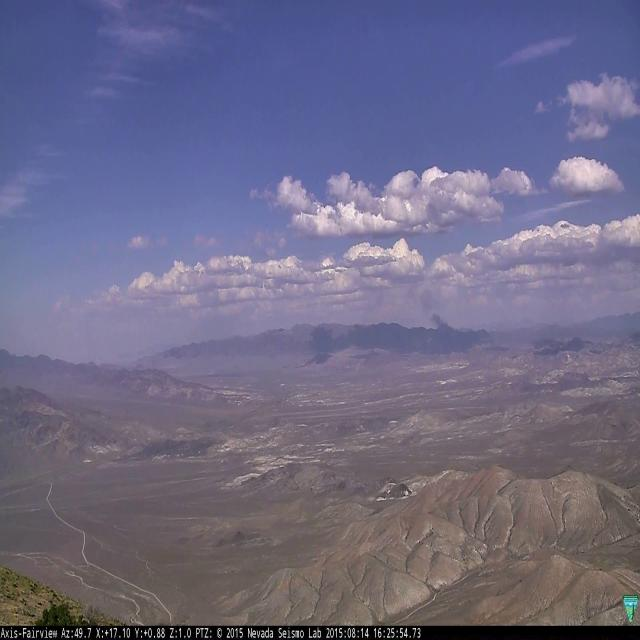smoke: (420, 291, 471, 353)
